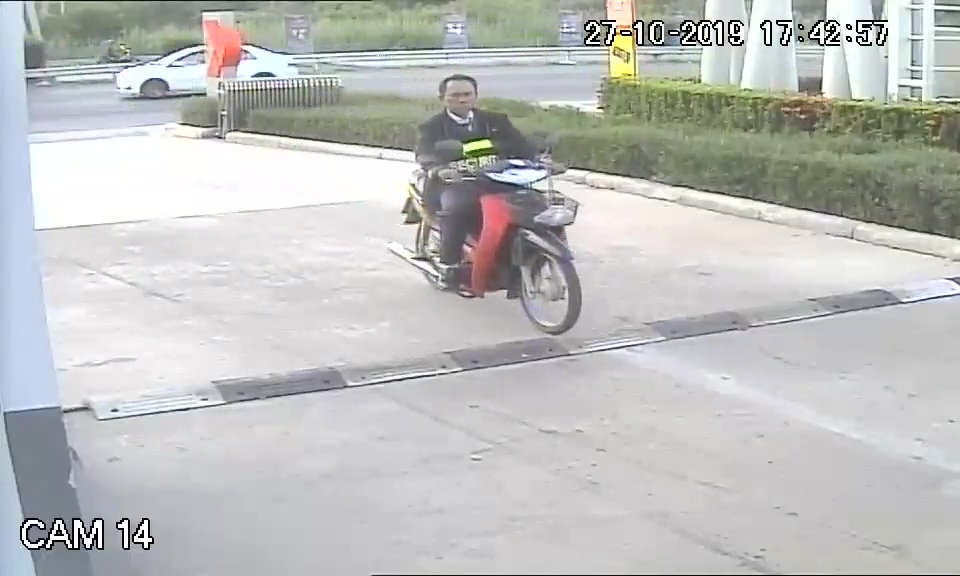motorcycle: (389, 156, 585, 336)
